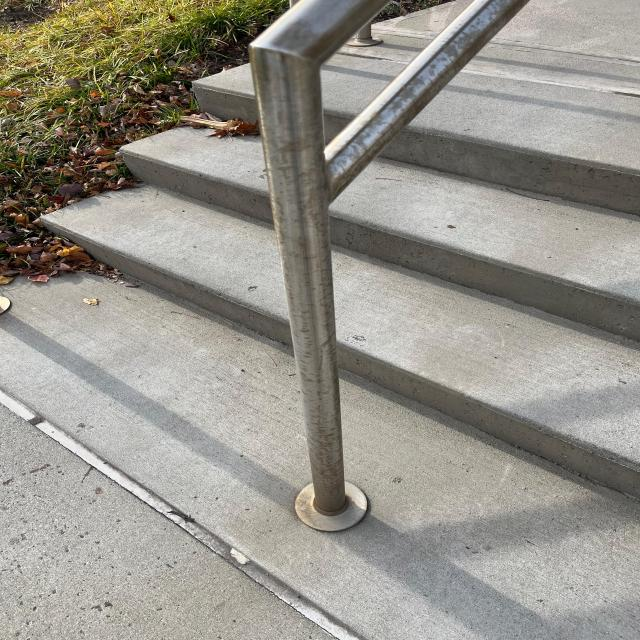Uniform Corrosion: (262, 1, 527, 527)
